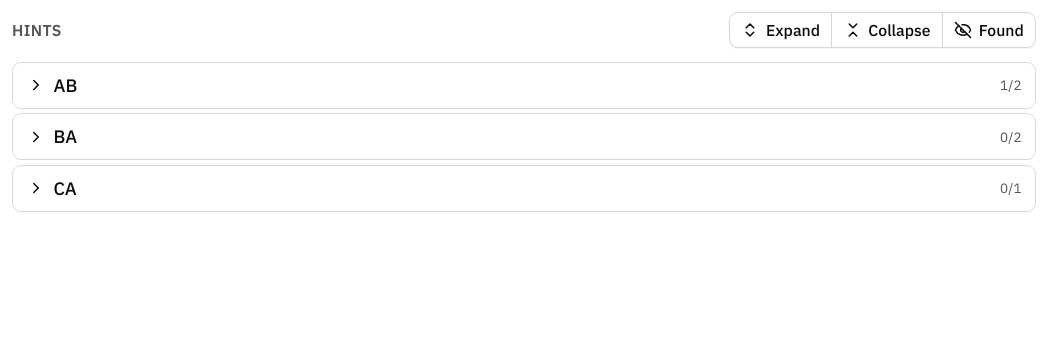
Test: HintsList › found words tracking › does not filter hints for other prefixes when word is found
Check BA hints are unaffected
Step 1. Click the button "BA 0/2" → (36, 136), box 13,114 -> 1035,159
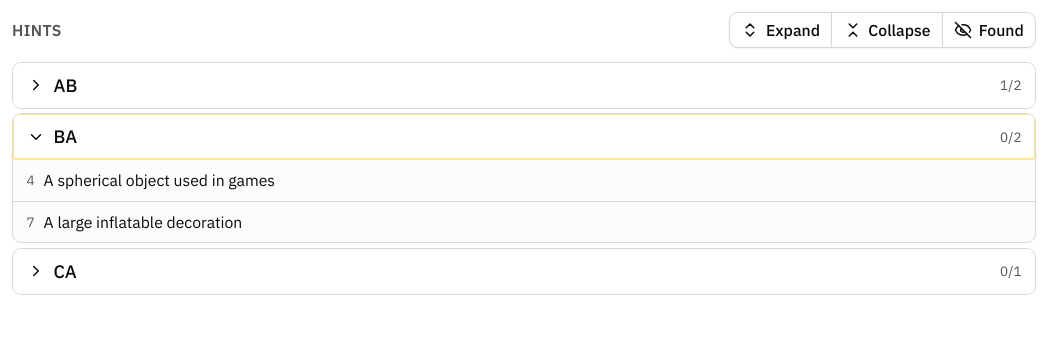
Now the text "A spherical object used in games" is shown, box 44,169 -> 275,192
Now the text "A large inflatable decoration" is shown, box 44,210 -> 242,233
Check CA hints are unaffected
Step 2. Click the button "CA 0/1" → (36, 271), box 13,248 -> 1035,294
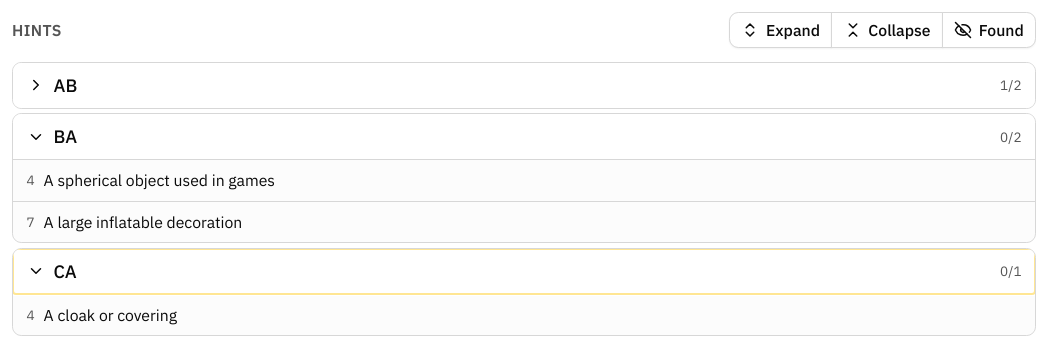
Now the text "A cloak or covering" is shown, box 44,304 -> 177,326
